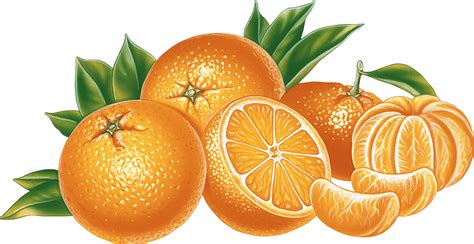orange: (57, 98, 209, 243), (131, 26, 289, 131), (280, 77, 392, 169)
